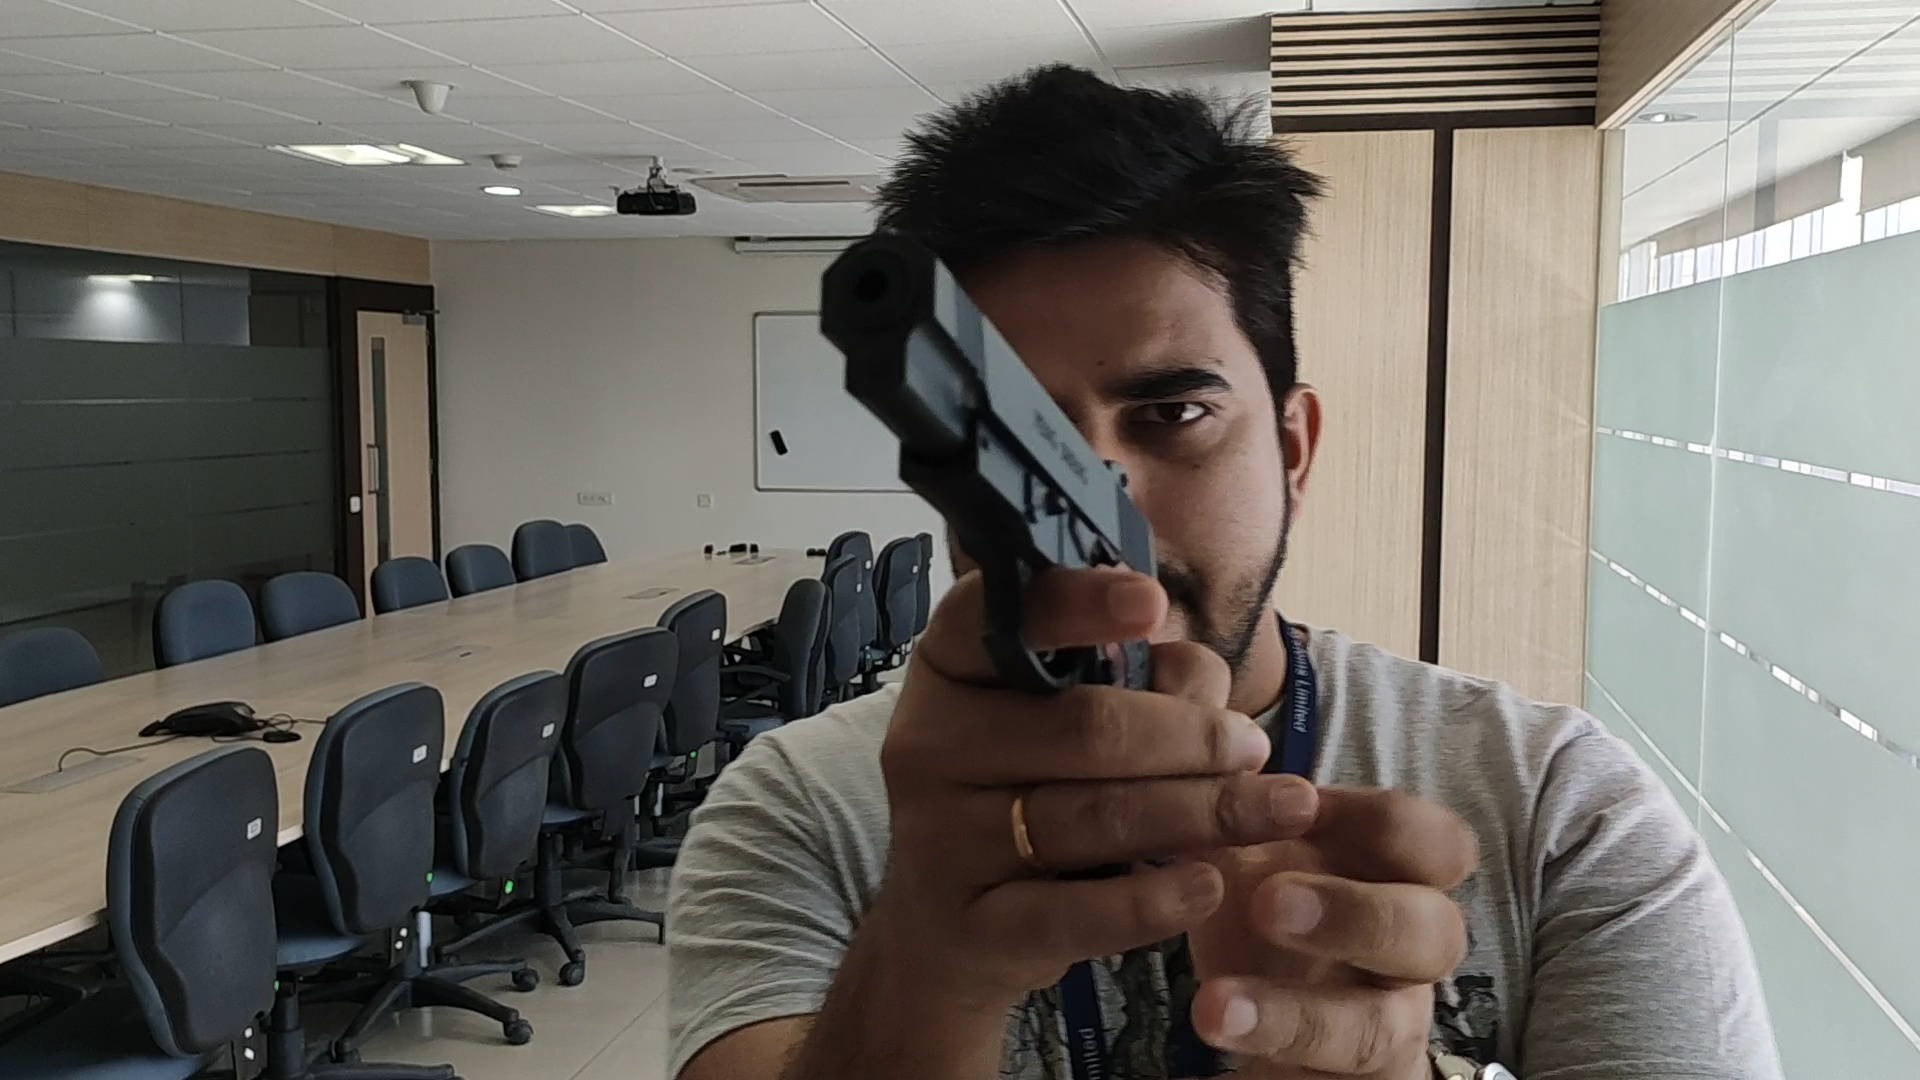gun: (818, 229, 1155, 568)
